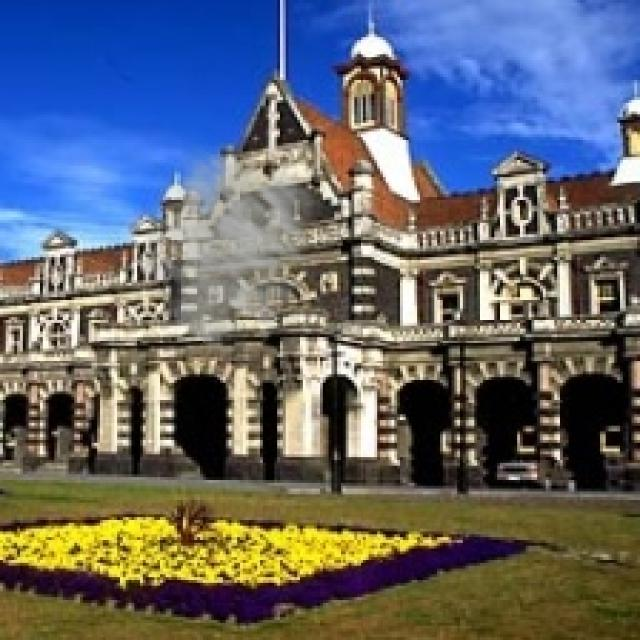smoke: (132, 137, 352, 360)
